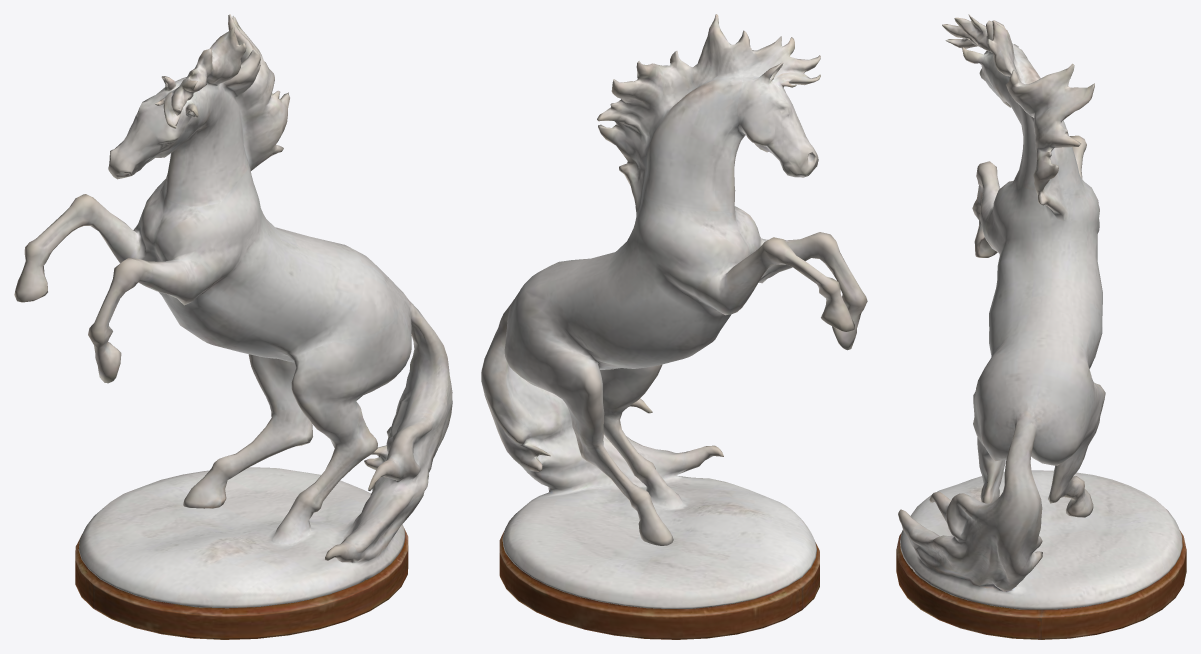
Rendered from horse_statue_01.glb.
3 views of the same model, side by side, from view 1: azimuth 30°, elevation 25°; view 2: azimuth 150°, elevation 25°; view 3: azimuth 270°, elevation 25° (orthographic). The views are drawn at different scales.
Visible parts, largest first — view 1: horse_statue_01; view 2: horse_statue_01; view 3: horse_statue_01.
Part boxes in pixels (x1,y1,x2,y2): horse_statue_01: (14, 14, 452, 639); horse_statue_01: (481, 14, 867, 639); horse_statue_01: (896, 14, 1186, 639).
Bounding box in the file's own units: 0.1637 × 0.2199 × 0.1078.
Materials: 1 (1 with a texture image).
